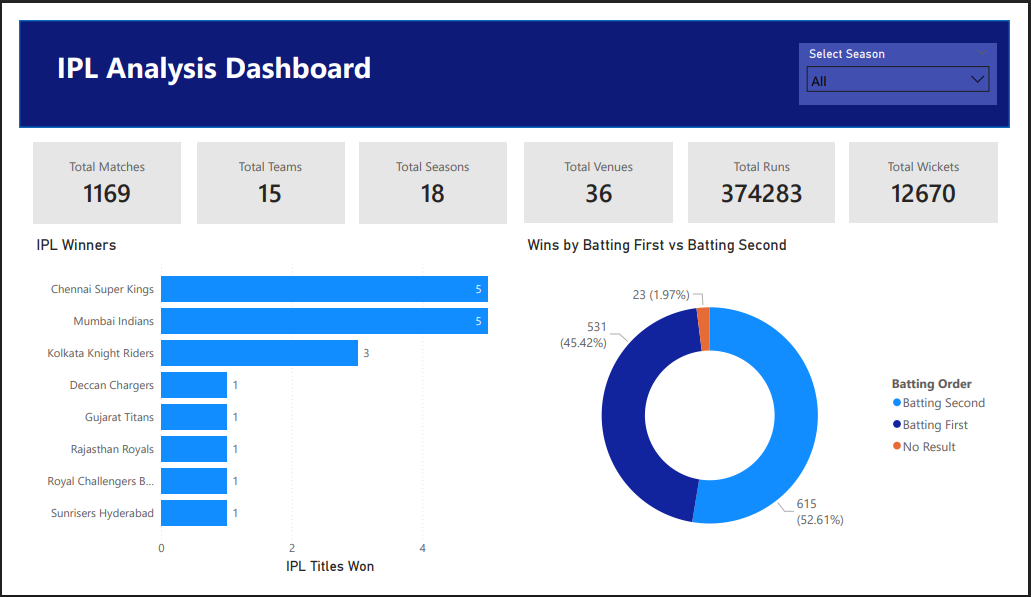

What the dashboard file says about the page in this screenshot:
{"tool":"powerbi","page":{"name":"first","canvas":[1280,720],"ordinal":0},"visuals":[{"type":"shape","box":[0,0,1279.8,138.1],"z":0},{"type":"textbox","box":[42.6,29.4,442.3,67.6],"z":1000},{"type":"cardVisual","fields":{"Data":["CountNonNull(ipl_matches.match_id)"]},"box":[17.6,157.2,191,104.3],"z":2000},{"type":"cardVisual","fields":{"Data":["Count(ipl_matches.Team_1)"]},"box":[229.2,157.2,191,104.3],"z":3000},{"type":"cardVisual","fields":{"Data":["Count(ipl_matches.season)"]},"box":[439.3,157.2,191,104.3],"z":4000},{"type":"cardVisual","fields":{"Data":["Sum(ipl_balls.runs_total)"]},"box":[865.1,157.9,189.8,104.1],"z":5000},{"type":"cardVisual","fields":{"Data":["Count(ipl_matches.venue)"]},"box":[653.4,157.9,191.5,104.1],"z":6000},{"type":"cardVisual","fields":{"Data":["ipl_balls.wicket_count"]},"box":[1073.4,157.9,191.5,104.1],"z":7000},{"type":"slicer","fields":{"Values":["ipl_matches.season"]},"box":[1008,29.4,255.7,79.3],"z":8000},{"type":"barChart","title":"IPL Winners","fields":{"Category":["ipl_matches.match_won_by"],"Y":["CountNonNull(ipl_matches.match_won_by)"]},"box":[16.8,278.8,613.1,441.8],"z":9000},{"type":"donutChart","title":"Wins by Batting First vs Batting Second","fields":{"Y":["CountNonNull(ipl_matches.win_type)"],"Category":["ipl_matches.win_type"]},"box":[652.4,279.2,611.3,440.8],"z":10000}]}

Visuals, with their boxes in screenshot pixels (x1, y1, x2, y2), scaled from the page's 1280x720 canvas onto the 1031x597 screenshot:
shape: bbox=[0, 0, 1030, 115]
textbox: bbox=[34, 24, 391, 80]
cardVisual - CountNonNull(ipl_matches.match_id): bbox=[14, 130, 168, 217]
cardVisual - Count(ipl_matches.Team_1): bbox=[185, 130, 338, 217]
cardVisual - Count(ipl_matches.season): bbox=[354, 130, 508, 217]
cardVisual - Sum(ipl_balls.runs_total): bbox=[697, 131, 850, 217]
cardVisual - Count(ipl_matches.venue): bbox=[526, 131, 681, 217]
cardVisual - ipl_balls.wicket_count: bbox=[865, 131, 1019, 217]
slicer - ipl_matches.season: bbox=[812, 24, 1018, 90]
"IPL Winners" barChart: bbox=[14, 231, 507, 596]
"Wins by Batting First vs Batting Second" donutChart: bbox=[525, 232, 1018, 596]
